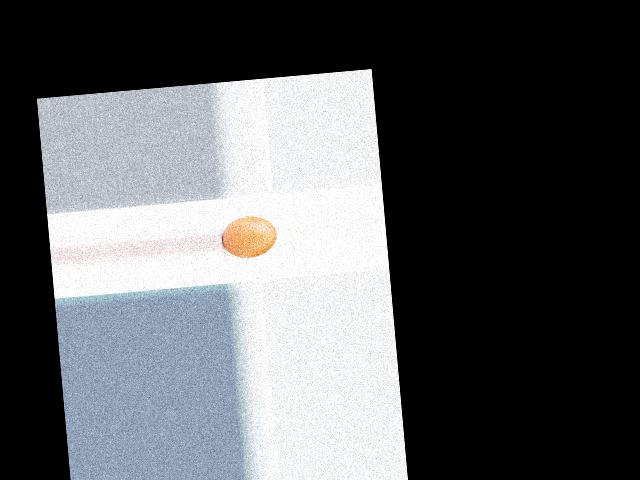egg: (220, 214, 277, 260)
